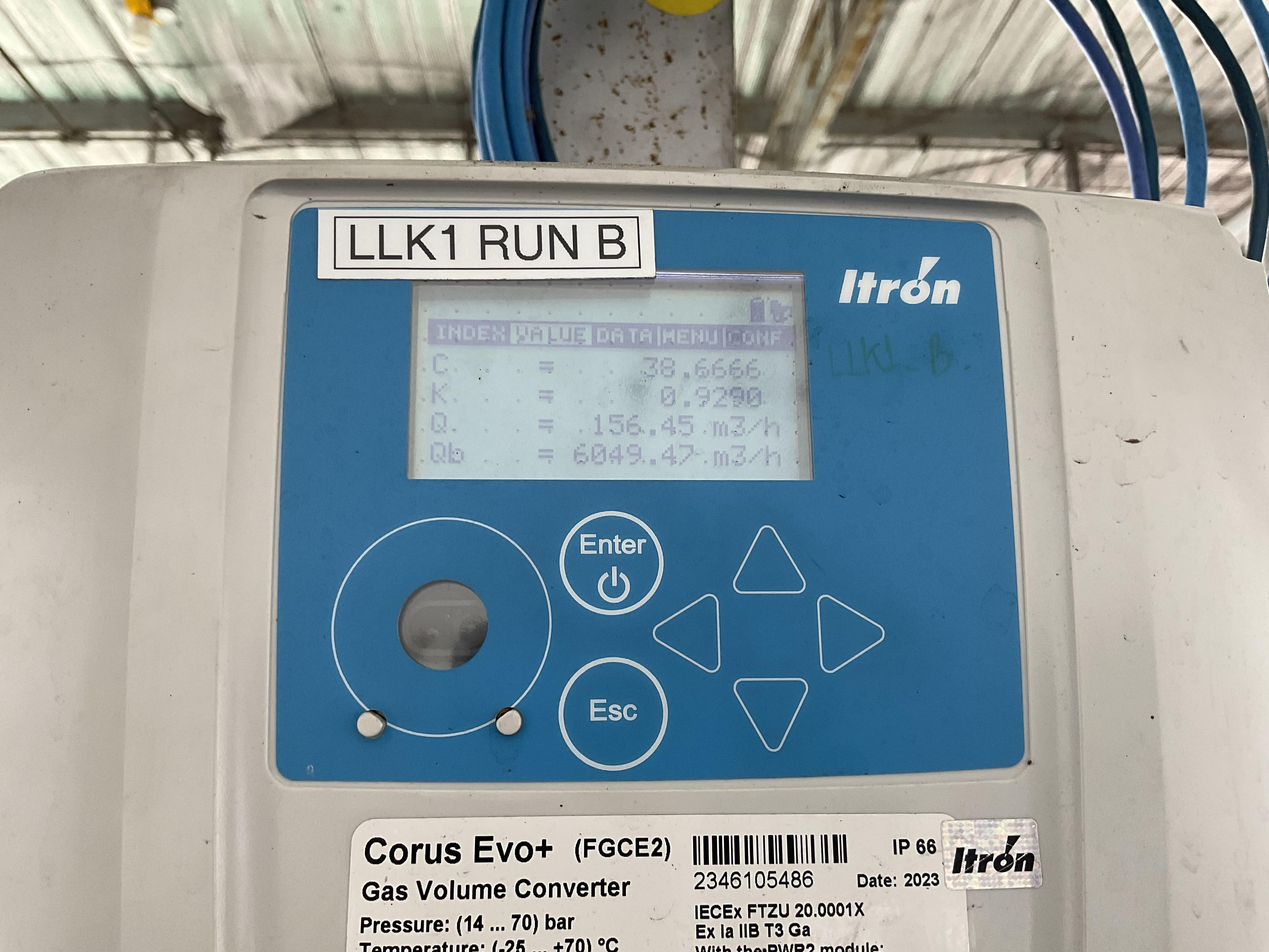digital_screen: (407, 270, 815, 480)
